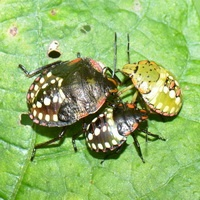insect: (19, 56, 181, 161)
